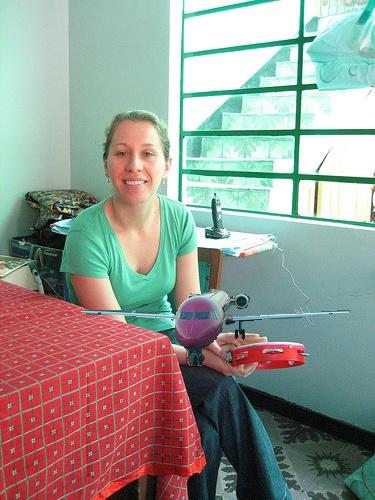tampered: (82, 290, 350, 365)
